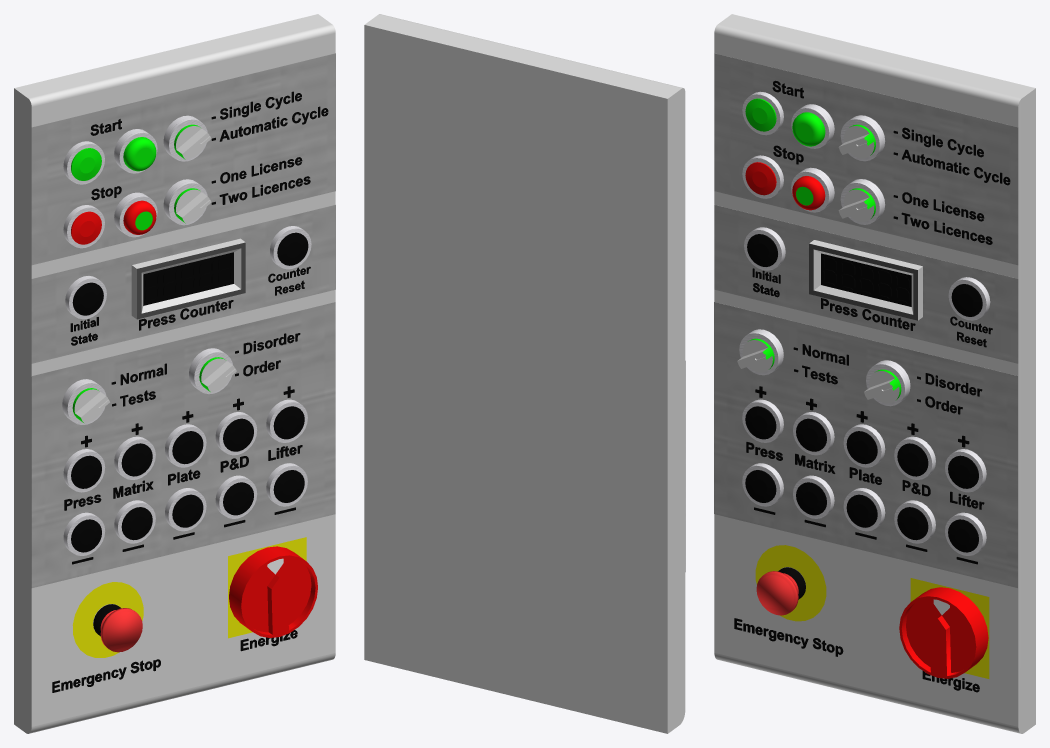
The model's file is panel.glb.
The picture shows the model from 3 angles, left to right: view 1: azimuth 30°, elevation 25°; view 2: azimuth 150°, elevation 25°; view 3: azimuth 330°, elevation 25°; orthographic projection.
Visible parts, largest first — view 1: _(Loose Entity), G-Object.013, G-Object.015, G-Object.014, G-Object.011, _G-Object.024 (Loose Mesh), C-Parada de emergencia, G-Object.021, G-Object.020, G-Object.022, G-Object.023, G-Object.018 (+26 smaller); view 2: _(Loose Entity); view 3: _(Loose Entity), G-Object.013, G-Object.015, G-Object.014, G-Object.011, _G-Object.024 (Loose Mesh), C-Parada de emergencia, G-Object.023, G-Object.022, G-Object.021, G-Object.020, G-Object.018 (+26 smaller).
Part boxes in pixels (left/top/right/bottom): _(Loose Entity): left=14, top=14, right=335, bottom=733; G-Object.013: left=31, top=302, right=335, bottom=588; G-Object.015: left=31, top=53, right=335, bottom=265; G-Object.014: left=31, top=204, right=335, bottom=363; G-Object.011: left=229, top=546, right=317, bottom=637; _G-Object.024 (Loose Mesh): left=131, top=238, right=245, bottom=319; C-Parada de emergencia: left=93, top=604, right=142, bottom=652; G-Object.021: left=163, top=179, right=211, bottom=225; G-Object.020: left=163, top=115, right=211, bottom=161; G-Object.022: left=62, top=379, right=109, bottom=424; G-Object.023: left=189, top=348, right=236, bottom=394; G-Object.018: left=114, top=192, right=157, bottom=237; _(Loose Entity): left=364, top=14, right=685, bottom=733; _(Loose Entity): left=714, top=14, right=1035, bottom=733; G-Object.013: left=714, top=302, right=1017, bottom=587; G-Object.015: left=714, top=53, right=1018, bottom=265; G-Object.014: left=714, top=205, right=1018, bottom=363; G-Object.011: left=899, top=587, right=988, bottom=678; _G-Object.024 (Loose Mesh): left=809, top=240, right=922, bottom=320; C-Parada de emergencia: left=756, top=567, right=805, bottom=615; G-Object.023: left=864, top=360, right=910, bottom=406; G-Object.022: left=737, top=329, right=783, bottom=375; G-Object.021: left=838, top=179, right=885, bottom=224; G-Object.020: left=838, top=115, right=885, bottom=161; G-Object.018: left=791, top=167, right=834, bottom=212.
Bounding box in the file's own units: 0.3003 × 0.6 × 0.0564.
Materials: 11 (2 with a texture image).
